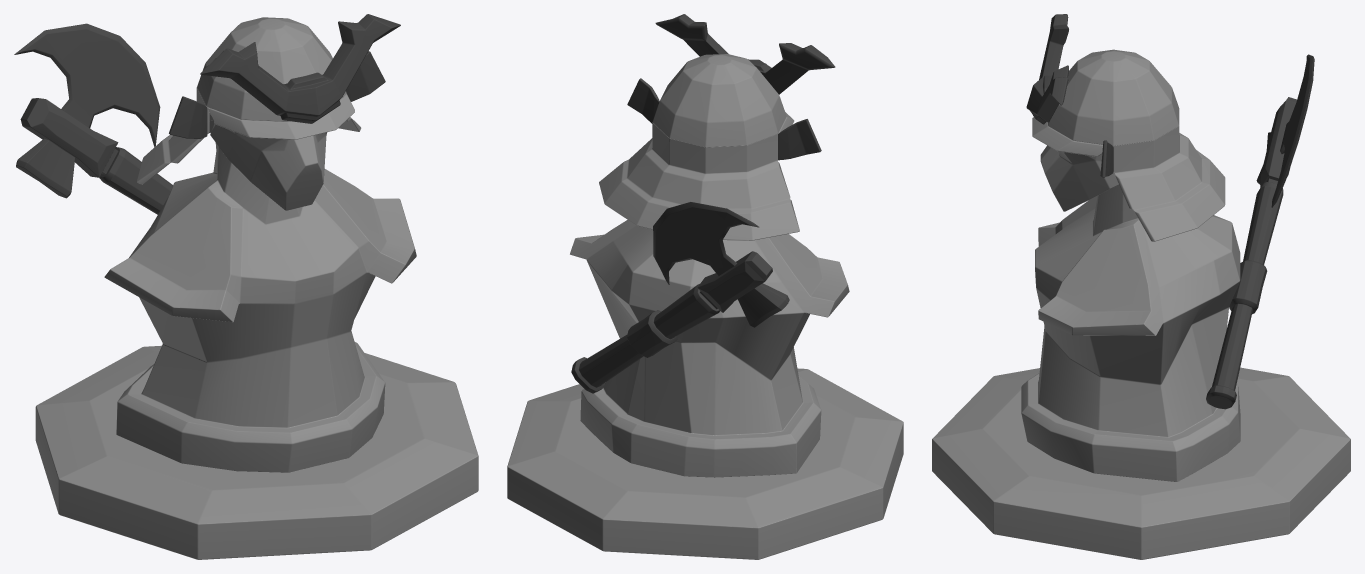
The model's file is samuray_p_w.glb.
3 renders of one model, left to right at view 1: azimuth 30°, elevation 25°; view 2: azimuth 150°, elevation 25°; view 3: azimuth 270°, elevation 25°, orthographic. The views are drawn at different scales.
Parts seen in each view (by area): view 1: b_P5_2; view 2: b_P5_2; view 3: b_P5_2.
Boxes of the visible parts, <box> form: b_P5_2: <box>14,14,478,559</box>; b_P5_2: <box>507,14,903,559</box>; b_P5_2: <box>932,14,1350,559</box>.
Bounding box in the file's own units: 1.65 × 1.89 × 1.65.
Materials: 1 (1 with a texture image).
